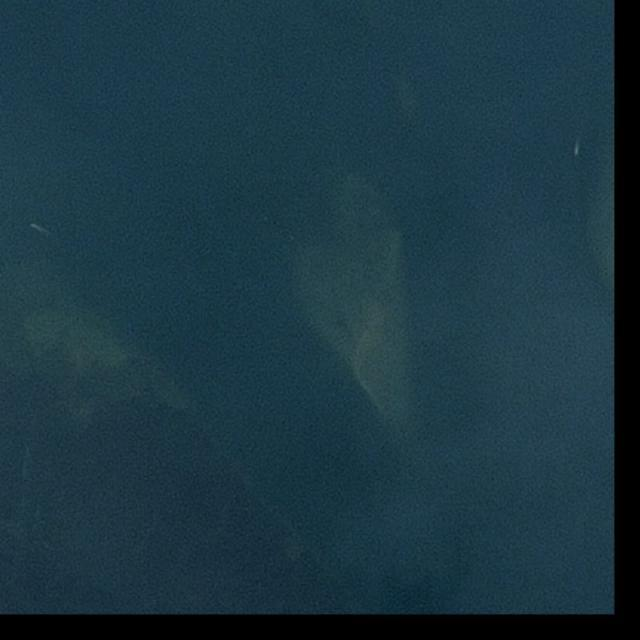ship: (572, 145, 579, 160), (28, 224, 34, 227)
